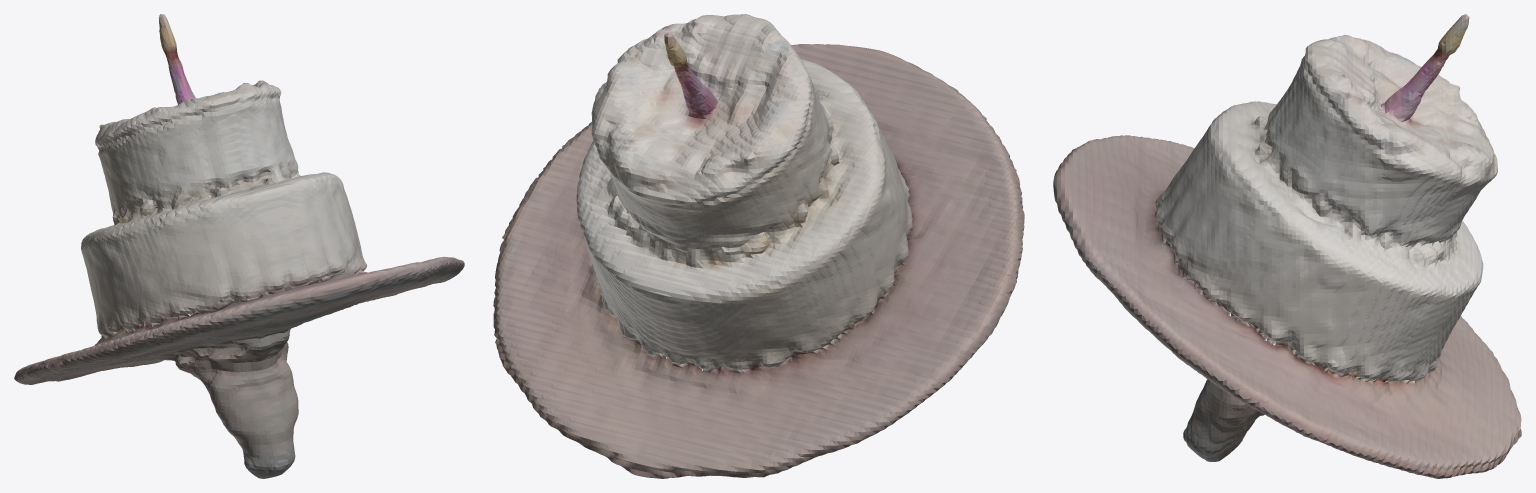
File: tarta.glb
The picture shows the model from 3 angles, left to right: view 1: azimuth 30°, elevation 25°; view 2: azimuth 150°, elevation 25°; view 3: azimuth 270°, elevation 25°; orthographic projection. The views are drawn at different scales.
Parts seen in each view (by area): view 1: geometry_0; view 2: geometry_0; view 3: geometry_0.
Part boxes in pixels (x1=…): geometry_0: x1=14, y1=14, x2=464, y2=478; geometry_0: x1=493, y1=14, x2=1024, y2=478; geometry_0: x1=1053, y1=14, x2=1521, y2=478.
Size of the model in its own units: 0.9236 by 0.8239 by 0.7892.
